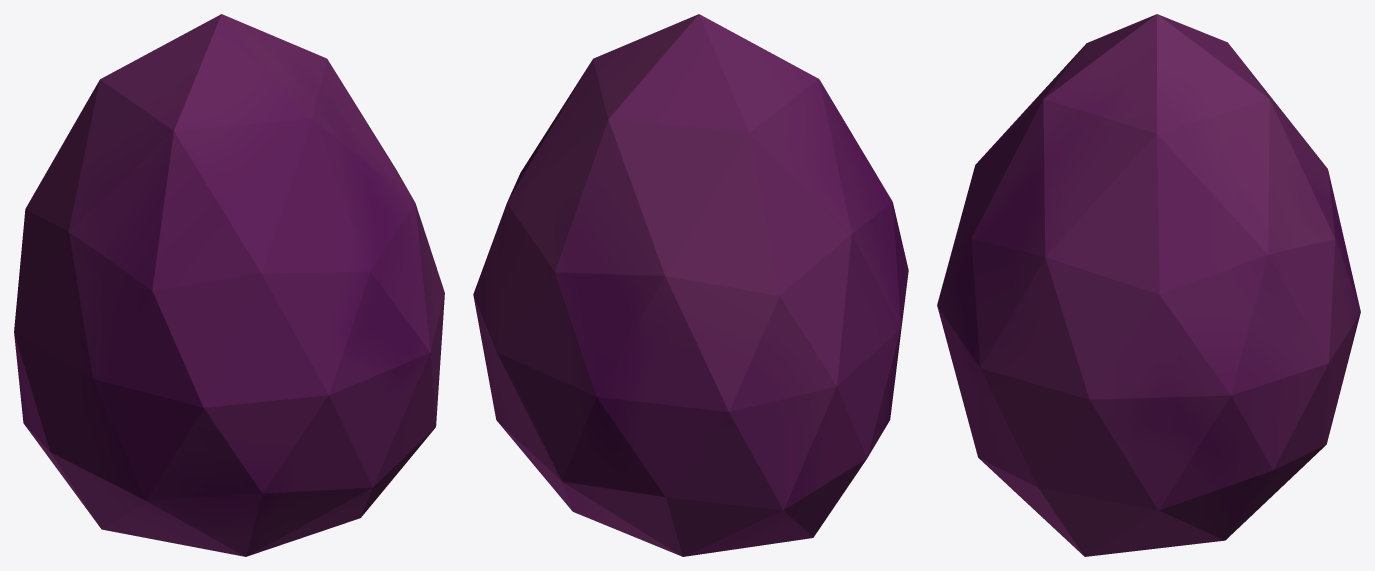
File: Magiczny kryształ.fbx
The picture shows the model from 3 angles, left to right: view 1: azimuth 30°, elevation 25°; view 2: azimuth 150°, elevation 25°; view 3: azimuth 270°, elevation 25°; orthographic projection. The views are drawn at different scales.
Visible parts, largest first — view 1: Icosphere; view 2: Icosphere; view 3: Icosphere.
Boxes of the visible parts, box(x1,y1,x2,y2) form: Icosphere: box(14, 14, 444, 556); Icosphere: box(473, 14, 908, 556); Icosphere: box(937, 14, 1360, 556).
Bounding box in the file's own units: 179 × 250 × 185.
Materials: 1 (1 with a texture image).
